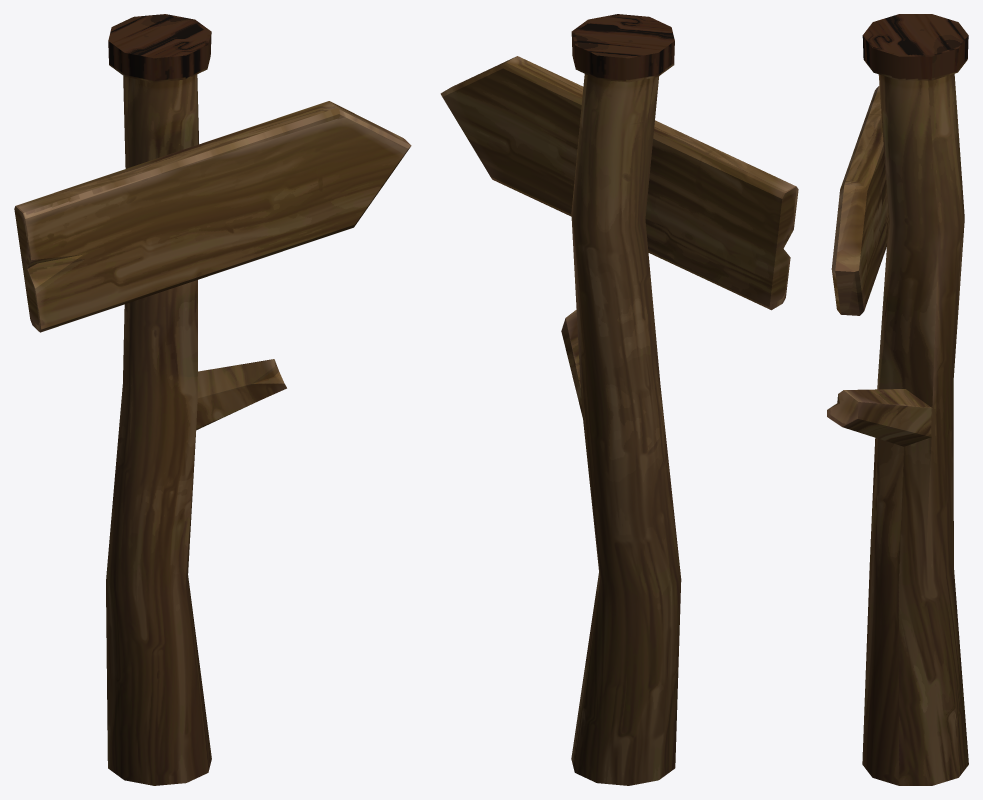
Rendered from Side.fbx.
3 views of the same model, side by side, from view 1: azimuth 30°, elevation 25°; view 2: azimuth 150°, elevation 25°; view 3: azimuth 270°, elevation 25° (orthographic).
Parts seen in each view (by area): view 1: Cylinder.001; view 2: Cylinder.001; view 3: Cylinder.001.
Part boxes in pixels (x1,y1,x2,y2): Cylinder.001: (14, 14, 411, 785); Cylinder.001: (440, 14, 798, 785); Cylinder.001: (827, 14, 968, 785).
Size of the model in its own units: 145 by 273 by 48.22.
Materials: 1 (1 with a texture image).
